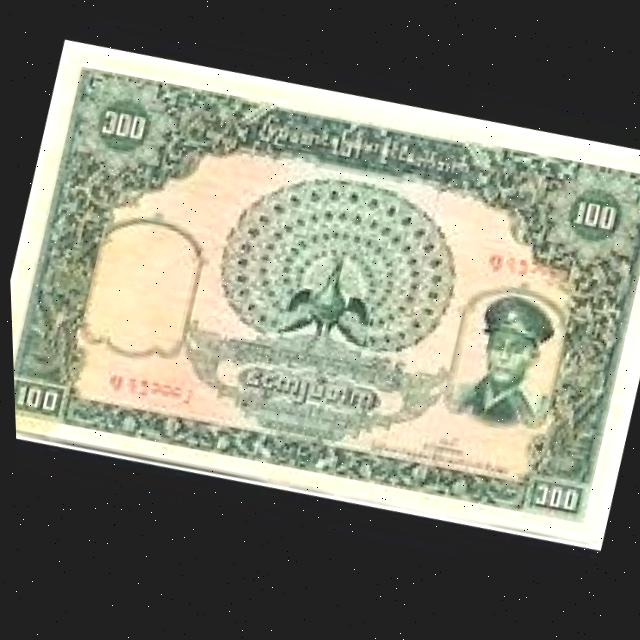banknote: (1, 4, 640, 592)
